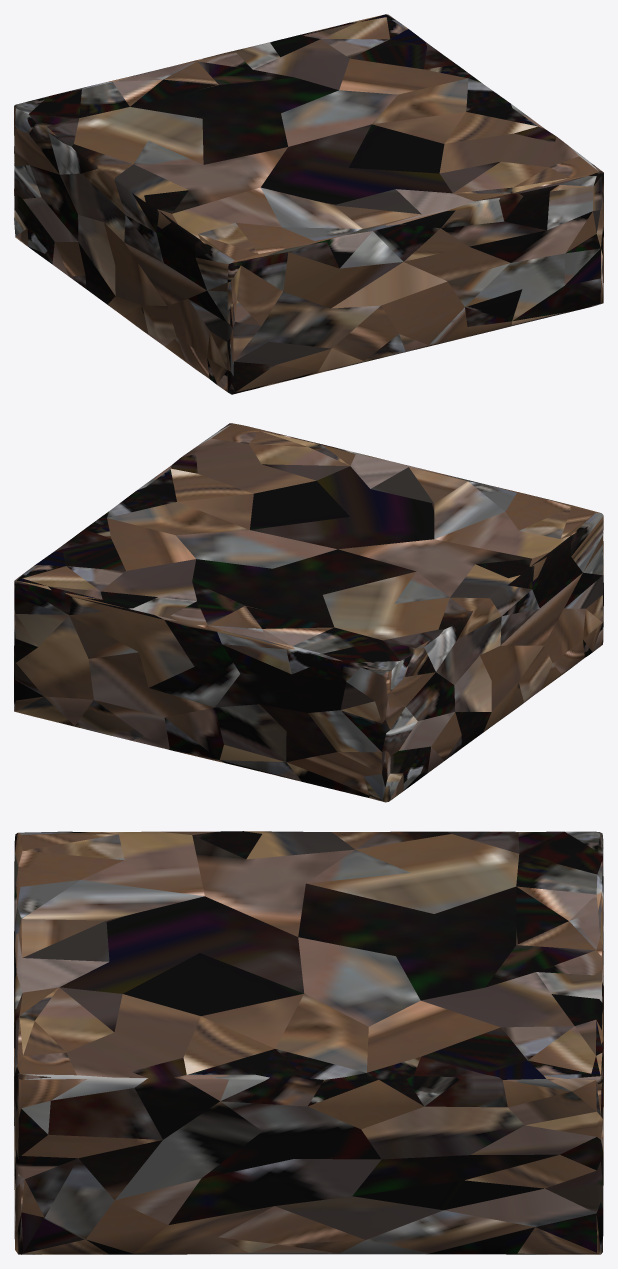
The model's file is MovingPlat.fbx.
3 views of the same model, one above another, from view 1: azimuth 30°, elevation 25°; view 2: azimuth 150°, elevation 25°; view 3: azimuth 270°, elevation 25° (orthographic). The views are drawn at different scales.
Parts seen in each view (by area): view 1: Mesh_0; view 2: Mesh_0; view 3: Mesh_0.
Boxes of the visible parts, x1,y1,x2,y2 form: Mesh_0: (14, 14, 603, 394); Mesh_0: (14, 423, 603, 802); Mesh_0: (14, 831, 603, 1254).
Size of the model in its own units: 74.23 by 25 by 74.64.
